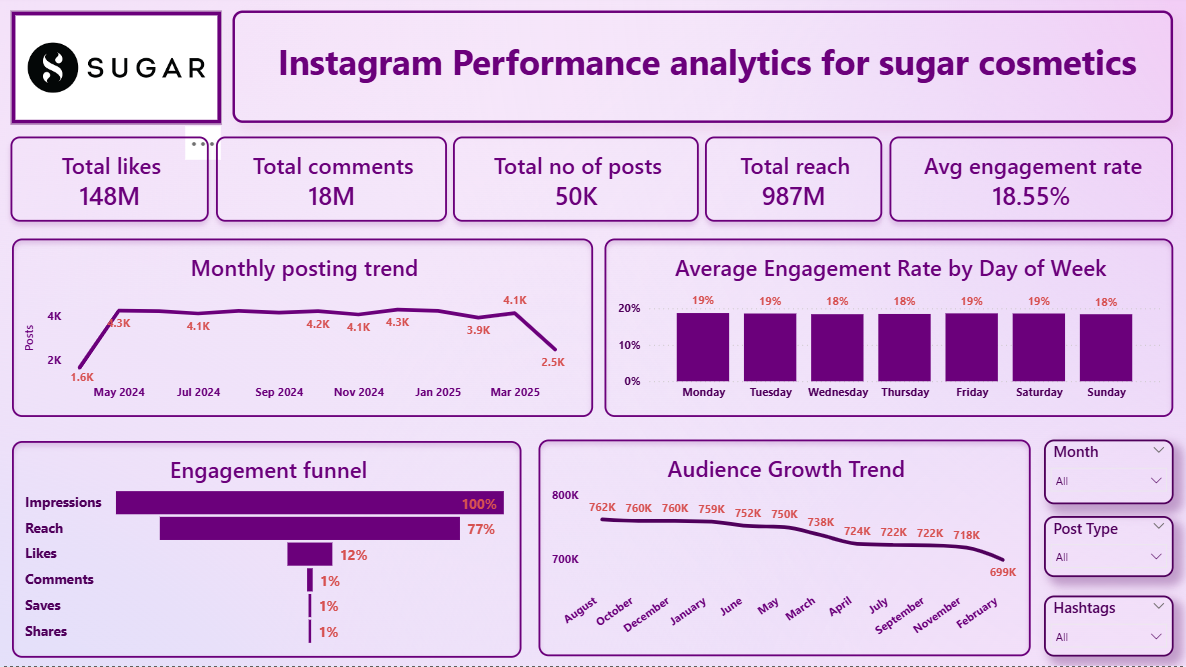

What the dashboard file says about the page in this screenshot:
{"tool":"powerbi","page":{"name":"Instagram Performance Overview","canvas":[1280,720],"ordinal":0},"visuals":[{"type":"image","box":[11.3,11.3,228.3,123.1],"z":0},{"type":"textbox","box":[251,11.3,1015.3,121.4],"z":1000},{"type":"card","title":"Total likes","fields":{"Values":["Calendar.Total Likes"]},"box":[11.3,147.3,213.7,92.3],"z":2000},{"type":"card","title":"Total comments","fields":{"Values":["Calendar.Total comments"]},"box":[233.2,147.3,249.4,92.3],"z":3000},{"type":"card","title":"Total no of posts","fields":{"Values":["Calendar.Total Posts"]},"box":[489,147.3,265.6,92.3],"z":4000},{"type":"card","title":"Total reach","fields":{"Values":["Calendar.Total reach"]},"box":[761,147.3,191.1,92.3],"z":5000},{"type":"card","title":"Avg engagement rate","fields":{"Values":["Calendar.Average engagement rate"]},"box":[960.2,147.3,306,92.3],"z":6000},{"type":"lineChart","title":"Monthly posting trend","fields":{"Y":["Sum(monthly_posts.posts)"],"Category":["monthly_posts.month"]},"box":[13.2,257,627.4,192.8],"z":7000},{"type":"funnel","title":"Engagement funnel","fields":{"Category":["DimStage.stage"],"Y":["engagement_funnel.% of Impressions (TREATAS)"]},"box":[13.2,476.2,549.9,234.3],"z":8000},{"type":"clusteredColumnChart","title":"Average Engagement Rate by Day of Week","fields":{"Category":["sugar_cosmetics_instagram_data.WeekdayName"],"Y":["sugar_cosmetics_instagram_data.Engagement Rate"]},"box":[652,257,614.2,192.8],"z":9000},{"type":"lineChart","title":"Audience Growth Trend","fields":{"Category":["sugar_cosmetics_instagram_data.Month "],"Y":["sugar_cosmetics_instagram_data.Total Audience"]},"box":[582.1,474.3,531,234.3],"z":10000},{"type":"slicer","fields":{"Values":["sugar_cosmetics_instagram_data.Month "]},"box":[1126.3,474.3,139.8,69.9],"z":11000},{"type":"slicer","fields":{"Values":["sugar_cosmetics_instagram_data.Post Type"]},"box":[1126.3,557.5,139.8,66.1],"z":12000},{"type":"slicer","fields":{"Values":["sugar_cosmetics_instagram_data.Hashtags"]},"box":[1126.3,642.5,139.8,66.1],"z":13000}]}

Visuals, with their boxes in screenshot pixels (x1, y1, x2, y2), scaled from the page's 1280x720 canvas onto the 1186x667 screenshot:
image: 10,10,222,125
textbox: 233,10,1173,123
"Total likes" card: 10,136,208,222
"Total comments" card: 216,136,447,222
"Total no of posts" card: 453,136,699,222
"Total reach" card: 705,136,882,222
"Avg engagement rate" card: 890,136,1173,222
"Monthly posting trend" lineChart: 12,238,594,417
"Engagement funnel" funnel: 12,441,522,658
"Average Engagement Rate by Day of Week" clusteredColumnChart: 604,238,1173,417
"Audience Growth Trend" lineChart: 539,439,1031,656
slicer - sugar_cosmetics_instagram_data.Month : 1044,439,1173,504
slicer - sugar_cosmetics_instagram_data.Post Type: 1044,516,1173,578
slicer - sugar_cosmetics_instagram_data.Hashtags: 1044,595,1173,656
